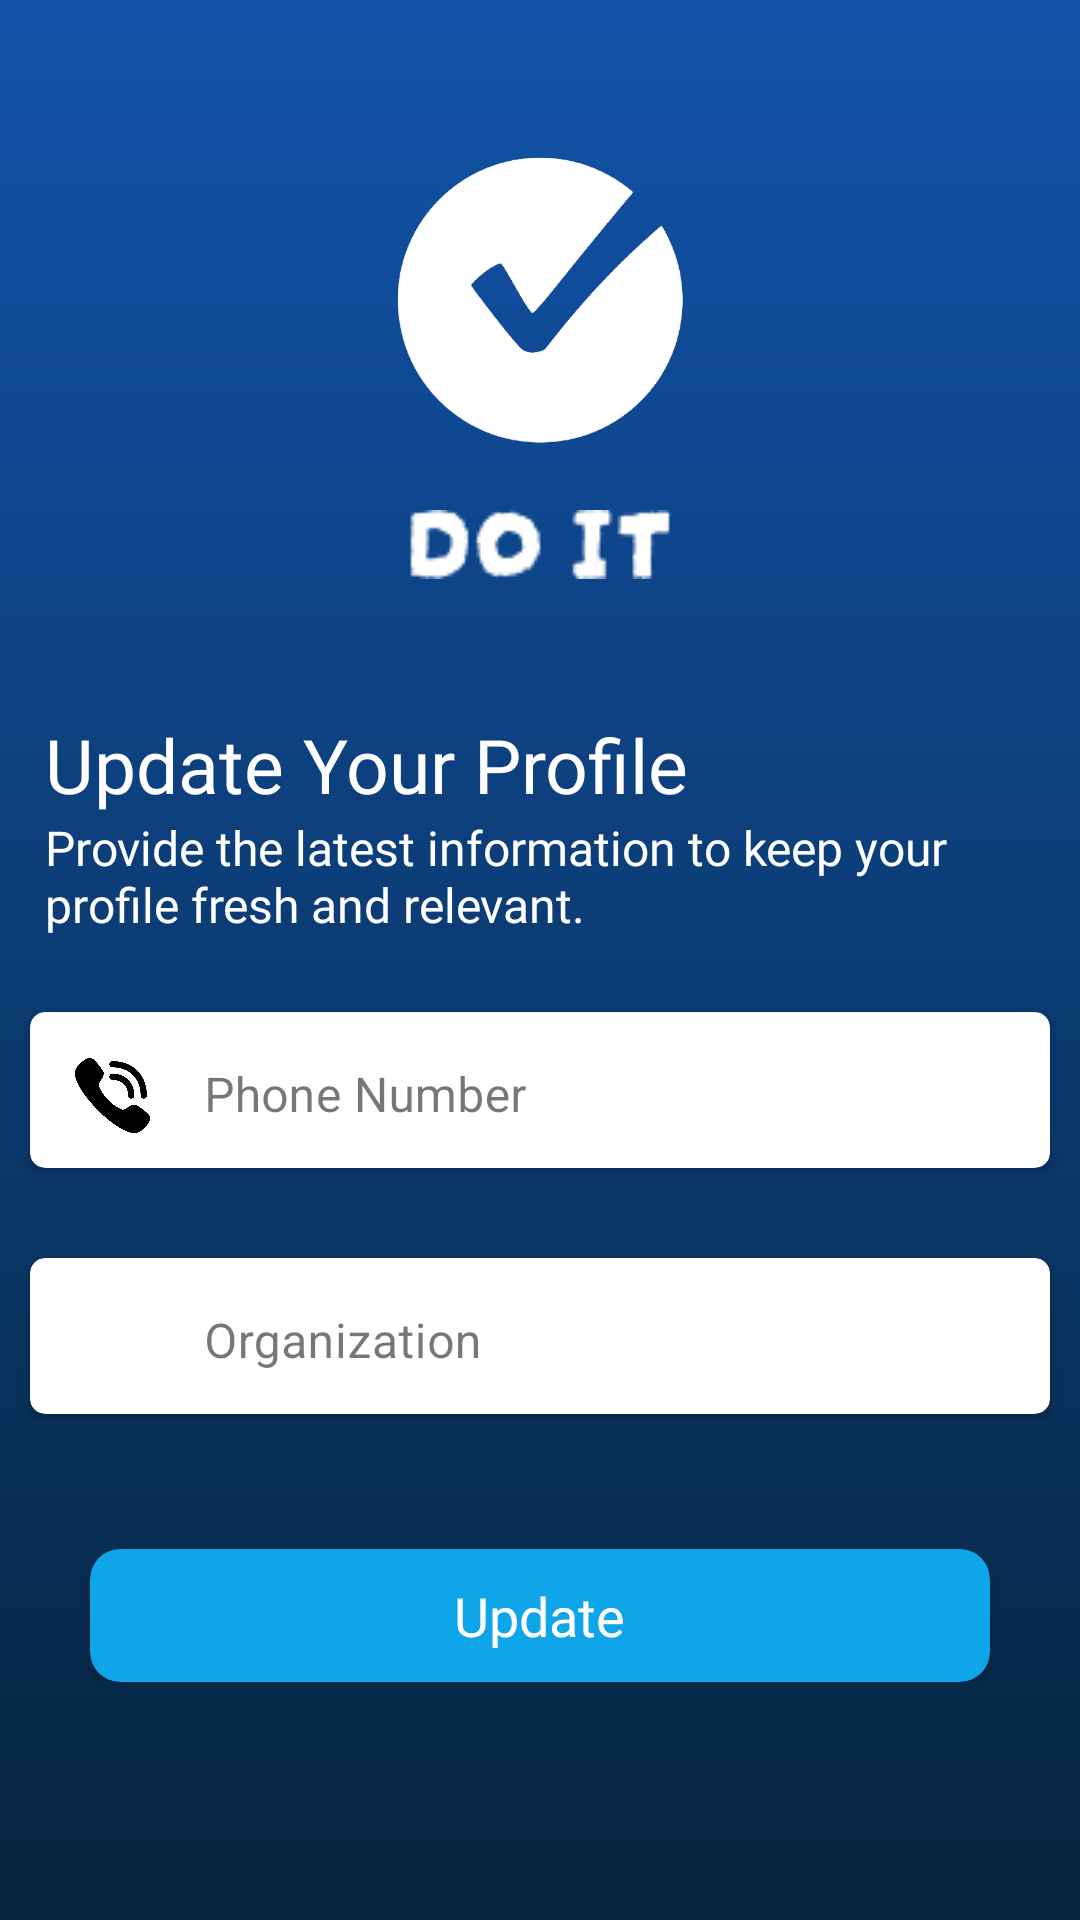

Where to tap for icons on this 1080×1920 app screen, as (x=x, y=y):
login checkmark: (x=540, y=300)
mobile num: (x=112, y=1095)
